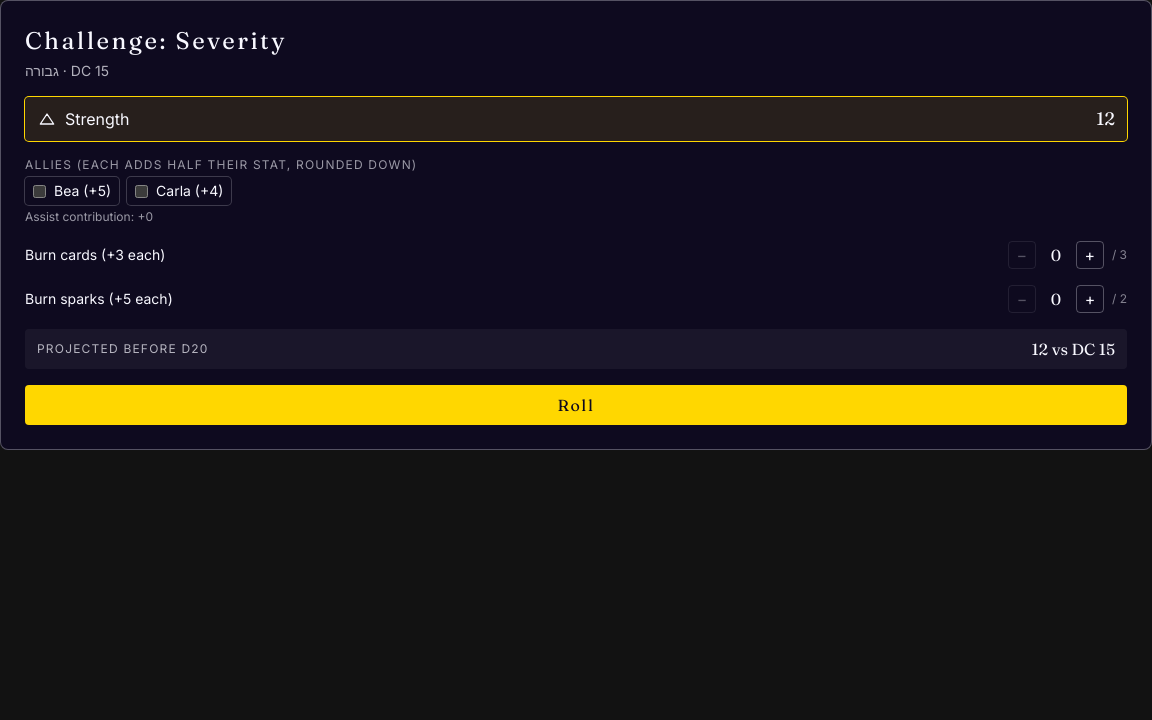
Test: ChallengeModal — committing modifiers › toggles ally assist and recomputes the projected total
Check: the text "12 vs DC 15" is shown, box left=1031, top=337, right=1115, bottom=361
Click the checkbox labelled "Bea (+5)". click: (40, 191)
box: left=33, top=184, right=46, bottom=198
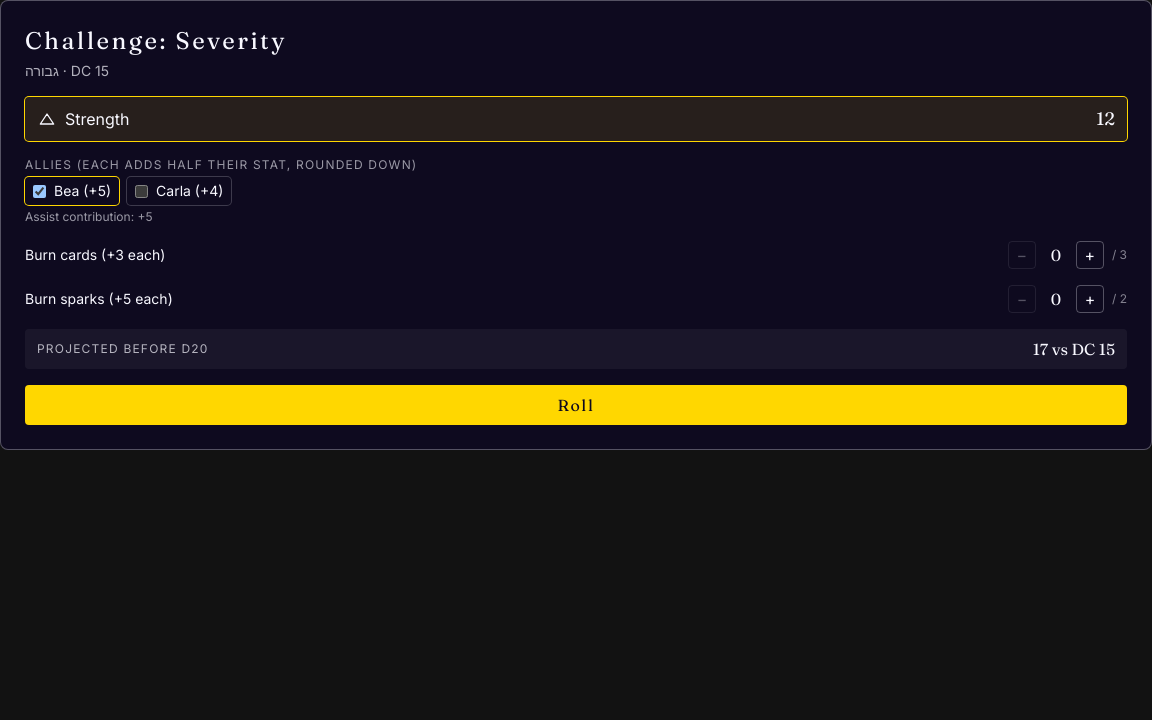
Check: the text "17 vs DC 15" is shown, box left=1033, top=337, right=1115, bottom=361
Check: the text "+5" is shown, box left=138, top=209, right=153, bottom=224
